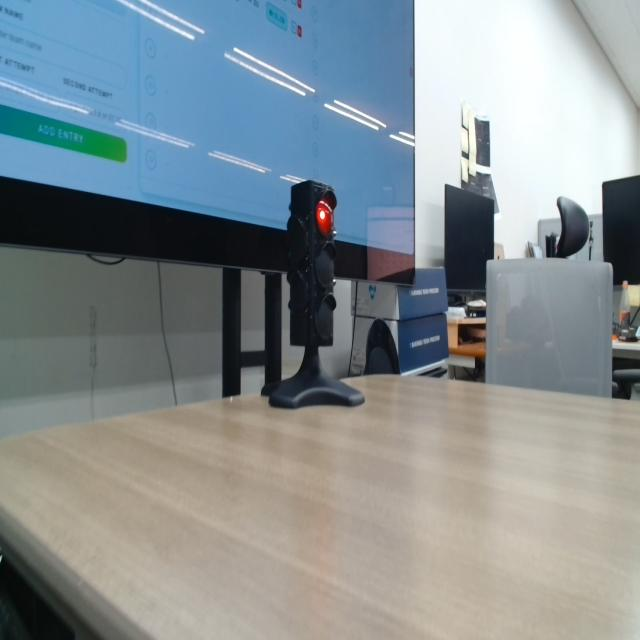red_light: (316, 192, 336, 236)
